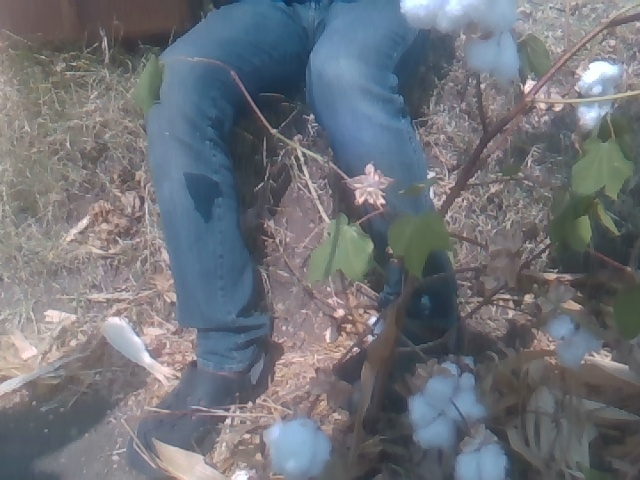cotton: (409, 377, 483, 448), (262, 417, 330, 479), (400, 1, 517, 36), (547, 312, 600, 370), (463, 33, 518, 86), (577, 62, 618, 131), (456, 444, 507, 480)
